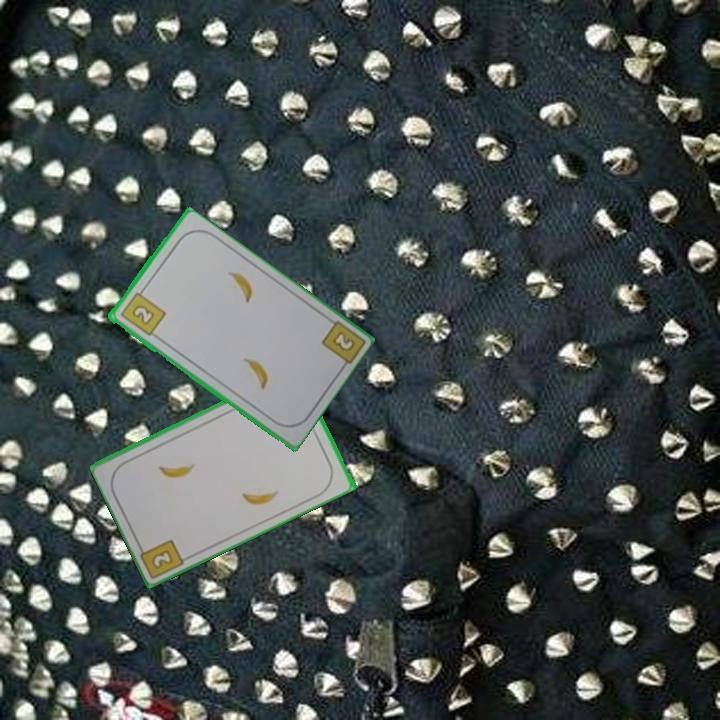2b: (116, 285, 168, 339), (328, 327, 357, 355), (148, 546, 176, 572)
